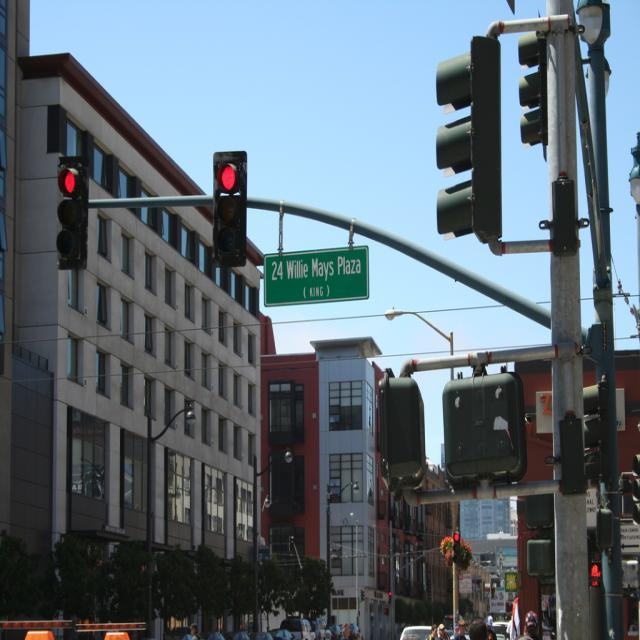off traffic light: (436, 37, 502, 246), (517, 10, 547, 163)
traffic light: (213, 151, 248, 267), (56, 156, 90, 273), (452, 526, 461, 565), (590, 560, 602, 586)
